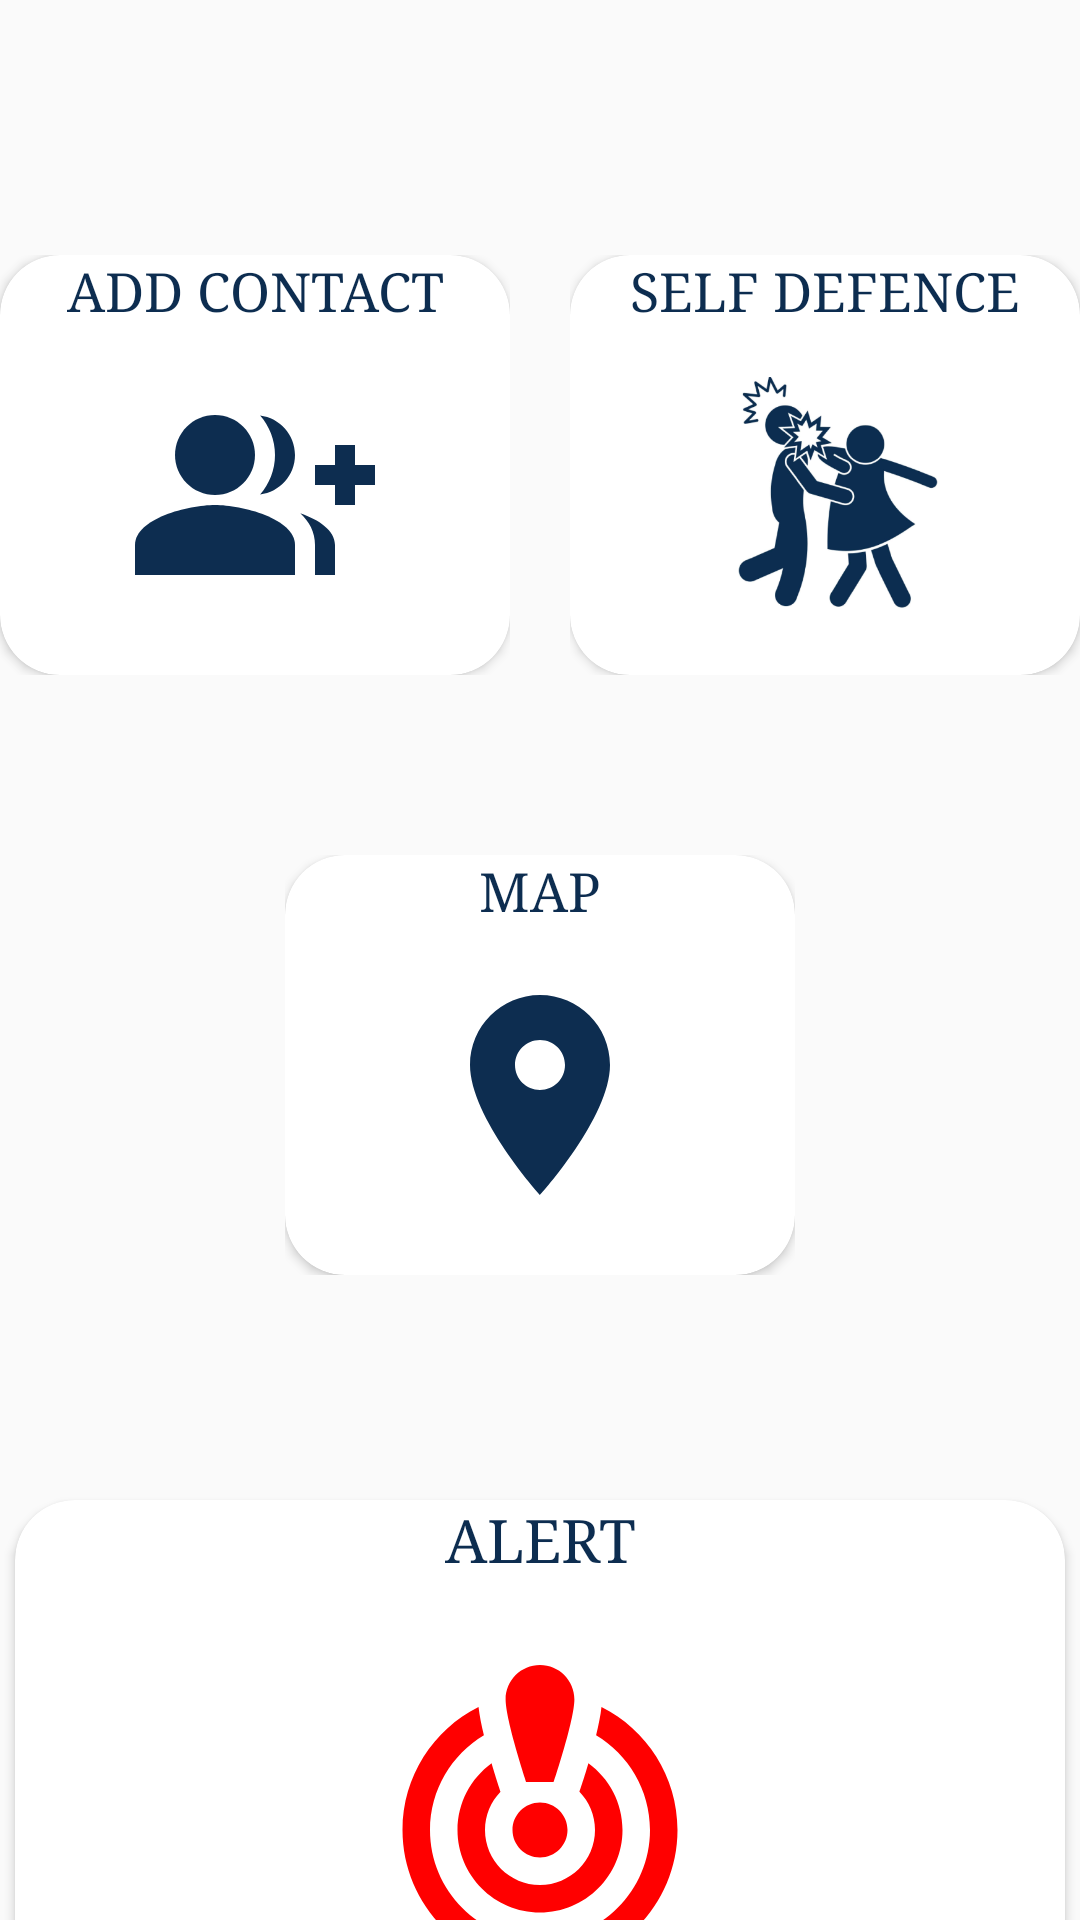

Named icons in this screenshot (1080px x 1920px) and their centers, point (x, y):
location: point (540, 1095)
